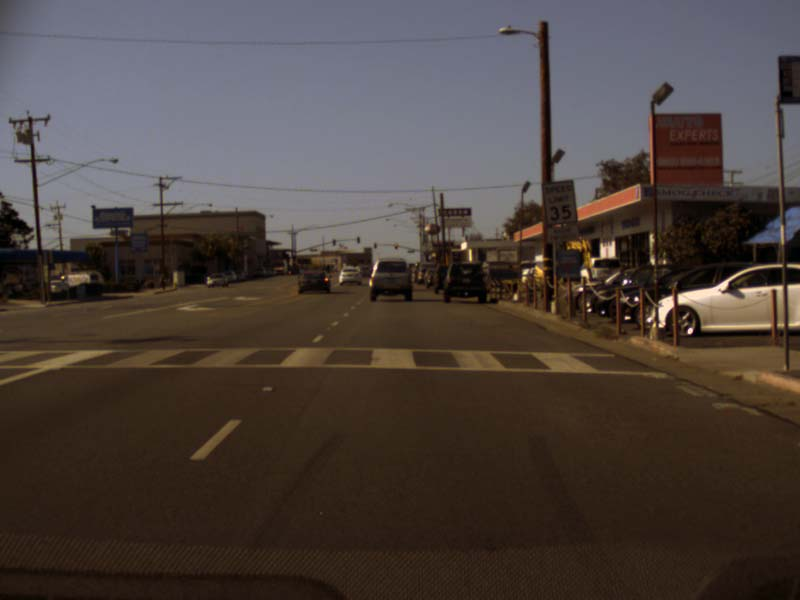Red: (394, 243, 397, 249)
